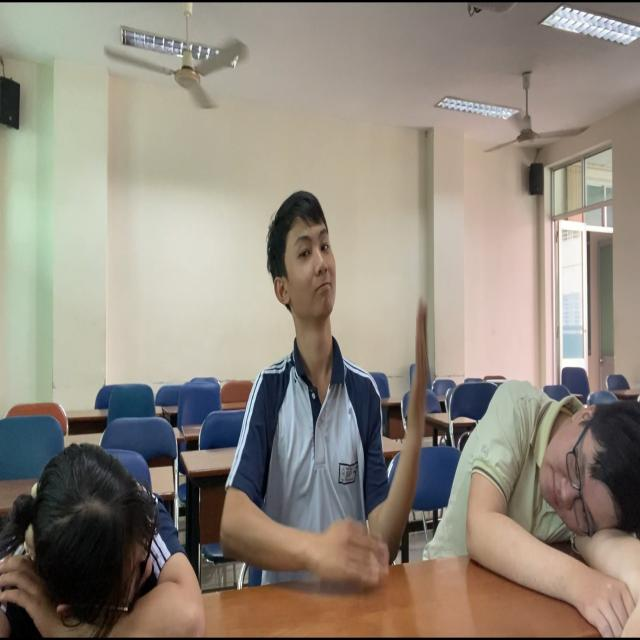sleep: (431, 370, 640, 638), (1, 410, 208, 640)
